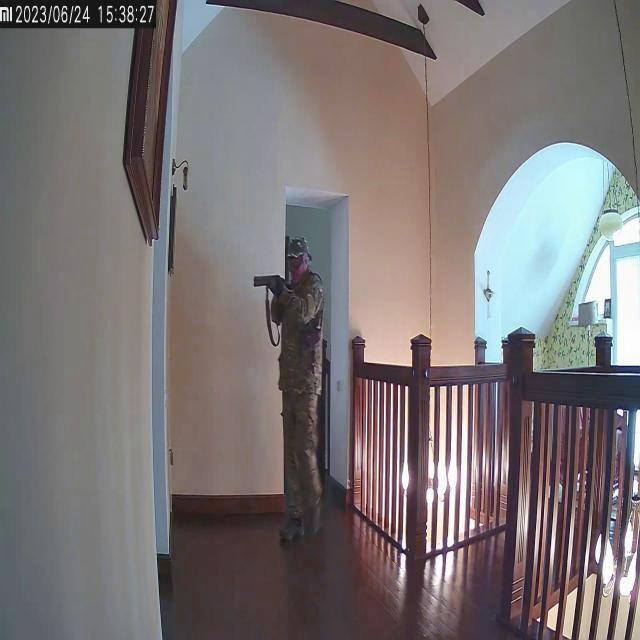gun: (248, 235, 328, 550), (250, 268, 294, 295)
